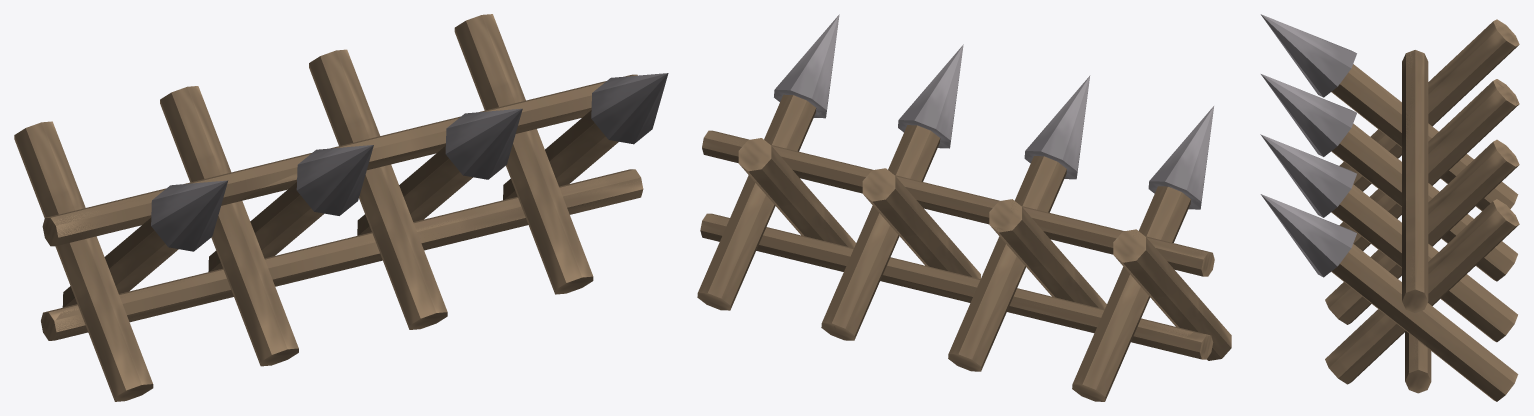
The model's file is Chain_Fence.fbx.
3 renders of one model, left to right at view 1: azimuth 30°, elevation 25°; view 2: azimuth 150°, elevation 25°; view 3: azimuth 270°, elevation 25°, orthographic. The views are drawn at different scales.
Parts seen in each view (by area): view 1: chevaldefrise, chevaldefrise_cell.026, chevaldefrise_cell.011, chevaldefrise_cell.010, chevaldefrise_cell.014, chevaldefrise_cell.009, chevaldefrise_cell.018, chevaldefrise_cell.021, chevaldefrise_cell.012, chevaldefrise_cell.029, chevaldefrise_cell.004, chevaldefrise_cell.020 (+2 smaller); view 2: chevaldefrise, chevaldefrise_cell, chevaldefrise_cell.008, chevaldefrise_cell.013, chevaldefrise_cell.026, chevaldefrise_cell.010, chevaldefrise_cell.011, chevaldefrise_cell.014, chevaldefrise_cell.004, chevaldefrise_cell.028; view 3: chevaldefrise, chevaldefrise_cell.008, chevaldefrise_cell, chevaldefrise_cell.011, chevaldefrise_cell.009, chevaldefrise_cell.029, chevaldefrise_cell.018, chevaldefrise_cell.014, chevaldefrise_cell.004, chevaldefrise_cell.012, chevaldefrise_cell.010, chevaldefrise_cell.021 (+3 smaller).
Boxes of the visible parts, x1,y1,x2,y2 form: chevaldefrise: (14,14,668,401); chevaldefrise_cell.026: (47,232,382,340); chevaldefrise_cell.011: (351,74,637,168); chevaldefrise_cell.010: (413,169,642,250); chevaldefrise_cell.014: (160,86,244,219); chevaldefrise_cell.009: (591,73,666,144); chevaldefrise_cell.018: (109,144,351,232); chevaldefrise_cell.021: (26,122,104,285); chevaldefrise_cell.012: (356,94,431,270); chevaldefrise_cell.029: (152,185,226,251); chevaldefrise_cell.004: (309,49,363,103); chevaldefrise_cell.020: (42,203,116,246); chevaldefrise: (697,14,1231,401); chevaldefrise_cell: (822,125,939,337); chevaldefrise_cell.008: (698,94,806,310); chevaldefrise_cell.013: (948,249,1009,368); chevaldefrise_cell.026: (900,263,1212,359); chevaldefrise_cell.010: (702,213,915,284); chevaldefrise_cell.011: (704,130,960,201); chevaldefrise_cell.014: (989,199,1063,278); chevaldefrise_cell.004: (862,169,908,204); chevaldefrise_cell.028: (1130,191,1190,342); chevaldefrise: (1260,14,1519,400); chevaldefrise_cell.008: (1332,244,1516,401); chevaldefrise_cell: (1332,184,1514,341); chevaldefrise_cell.011: (1402,172,1427,311); chevaldefrise_cell.009: (1268,198,1348,277); chevaldefrise_cell.029: (1264,19,1350,97); chevaldefrise_cell.018: (1402,74,1428,172); chevaldefrise_cell.014: (1428,79,1517,178); chevaldefrise_cell.004: (1459,139,1518,186); chevaldefrise_cell.012: (1372,177,1469,271); chevaldefrise_cell.010: (1405,331,1431,393); chevaldefrise_cell.021: (1428,20,1516,90).
Bounding box in the file's own units: 1210 × 490 × 554.
